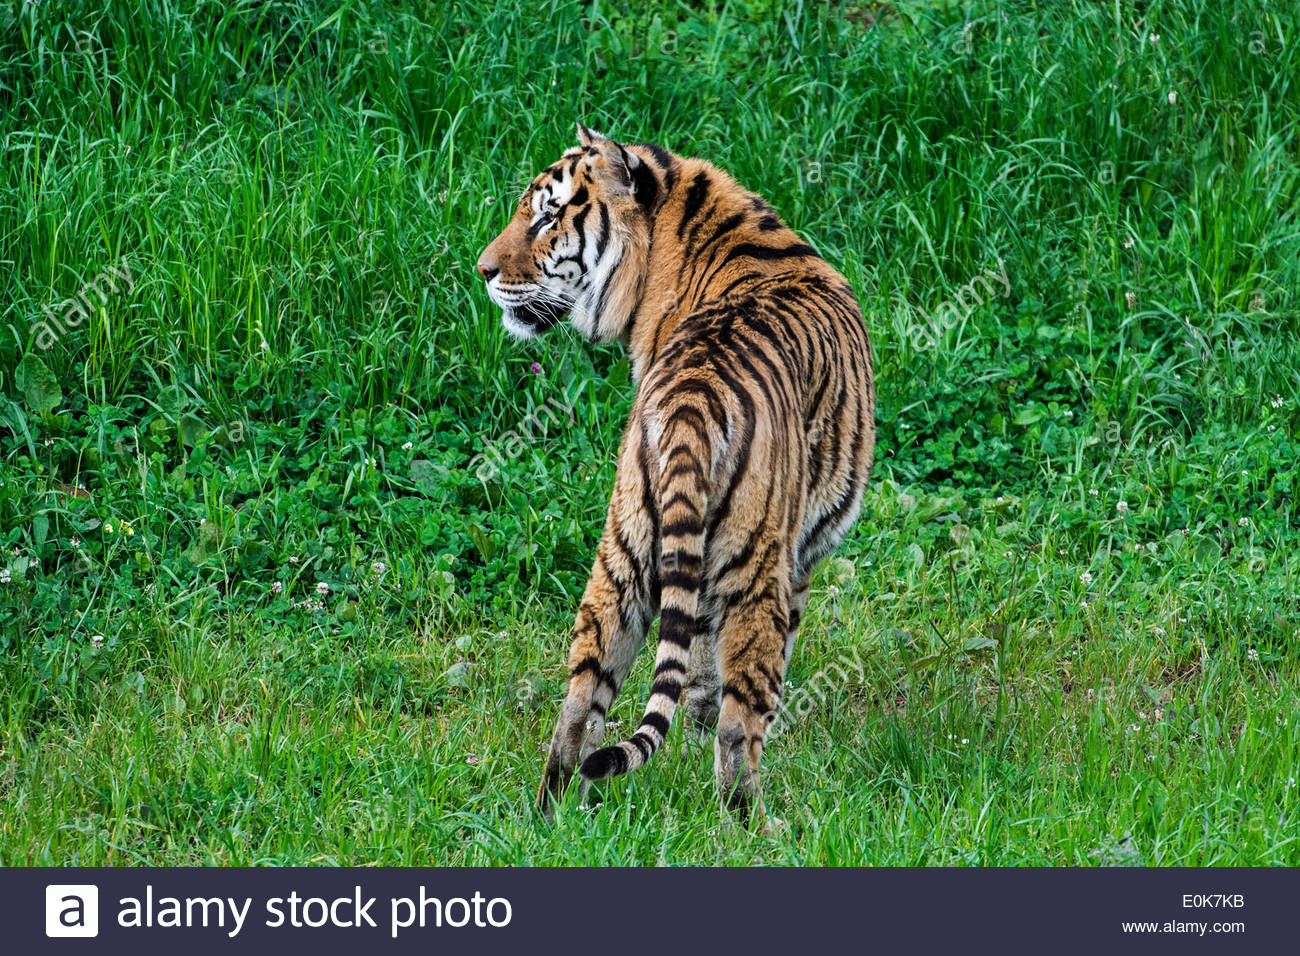tiger: (467, 113, 884, 821)
